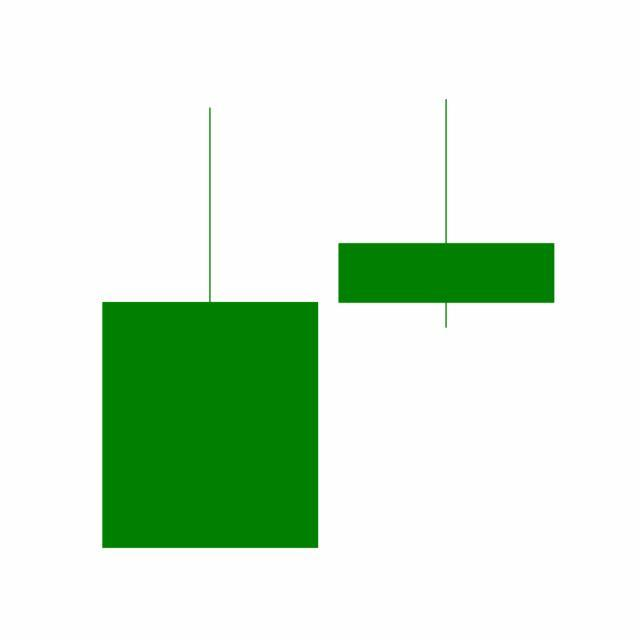Gravestone Doji: (328, 97, 566, 331)
